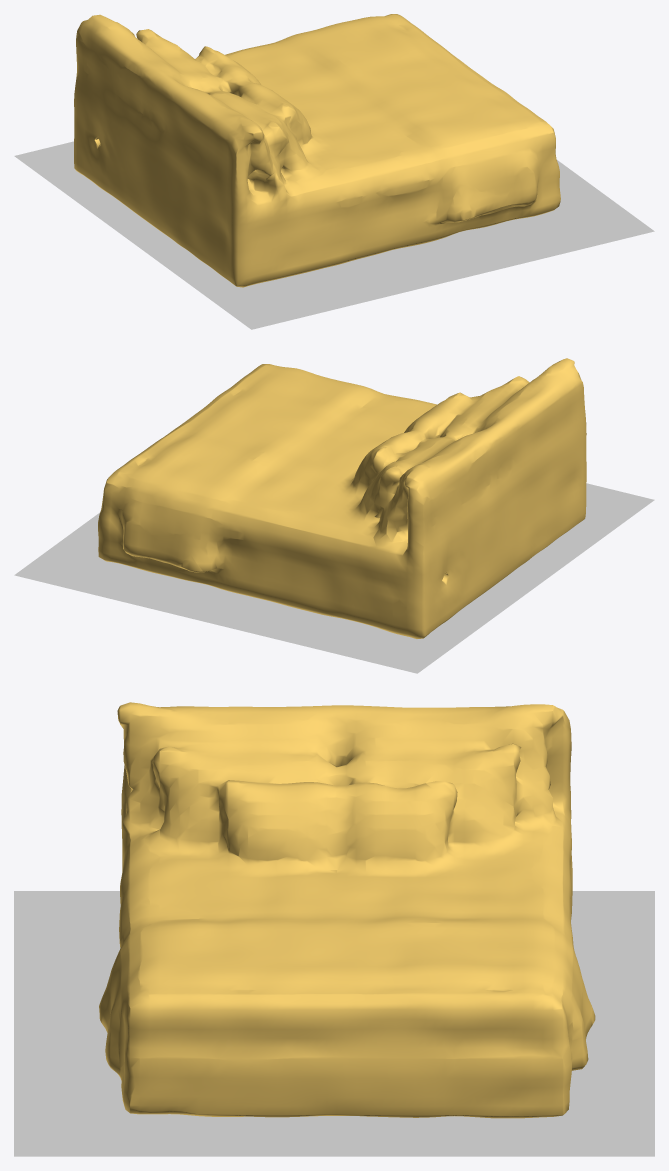
The model's file is Bed.glb.
3 renders of one model, top to bottom at view 1: azimuth 30°, elevation 25°; view 2: azimuth 150°, elevation 25°; view 3: azimuth 270°, elevation 25°, orthographic. The views are drawn at different scales.
Visible parts, largest first — view 1: world; view 2: world; view 3: world.
Part boxes in pixels (x1=…): world: x1=14, y1=14, x2=654, y2=329; world: x1=14, y1=358, x2=654, y2=673; world: x1=14, y1=702, x2=654, y2=1156.
Bounding box in the file's own units: 2.58 × 0.9821 × 2.63.
